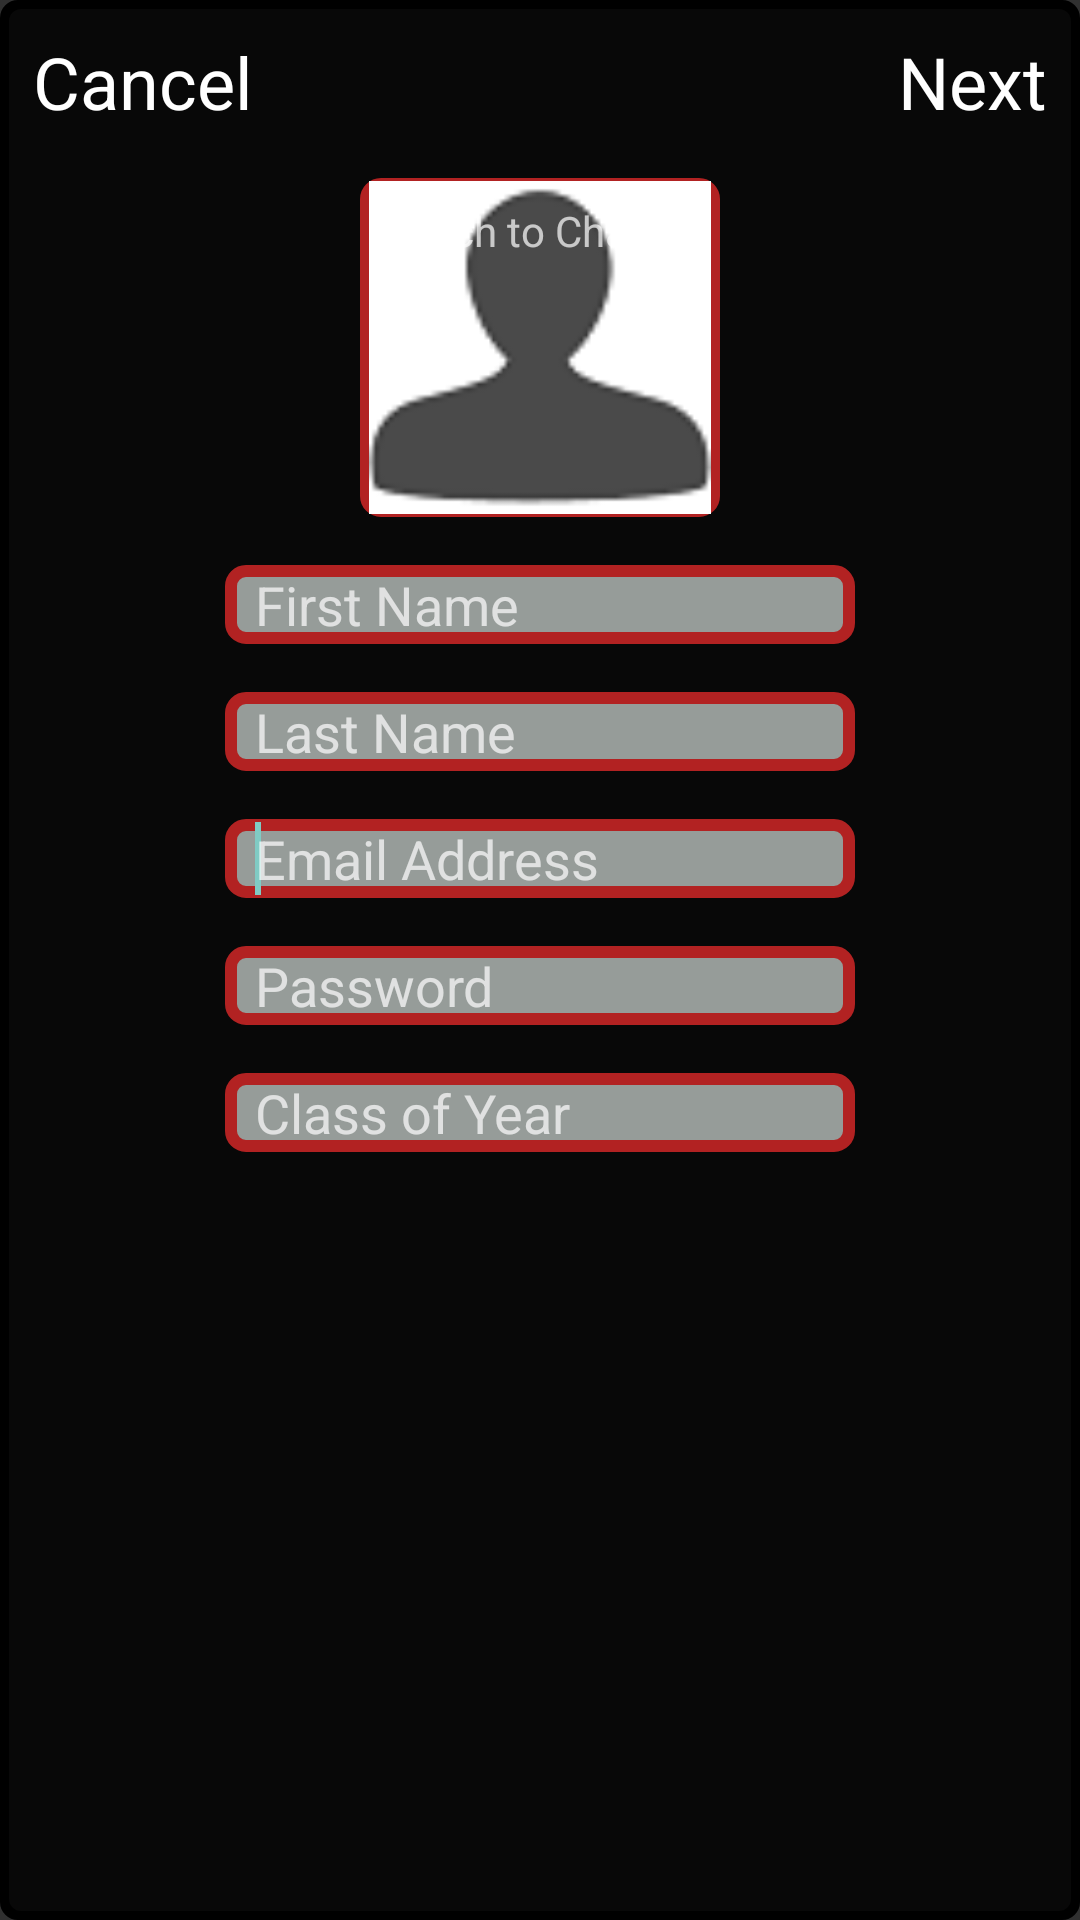

Locate icon controls on the screen. Image size 1080px×1920px, boxes as [x1,y1,x2,y2].
profile: [360,178,720,517]
